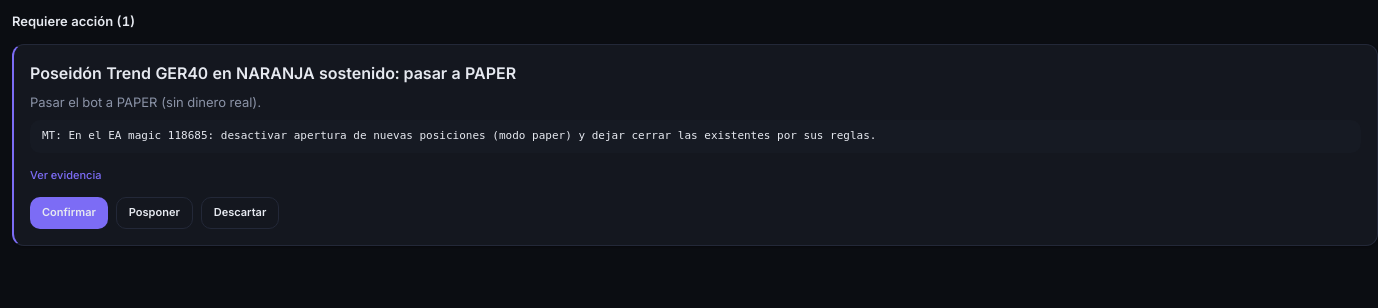
Scenario: RequiresActionPanel › Ver evidencia despliega las claves del objeto evidence
Click the button "Ver evidencia" at (66, 175), box 30,166 -> 102,183
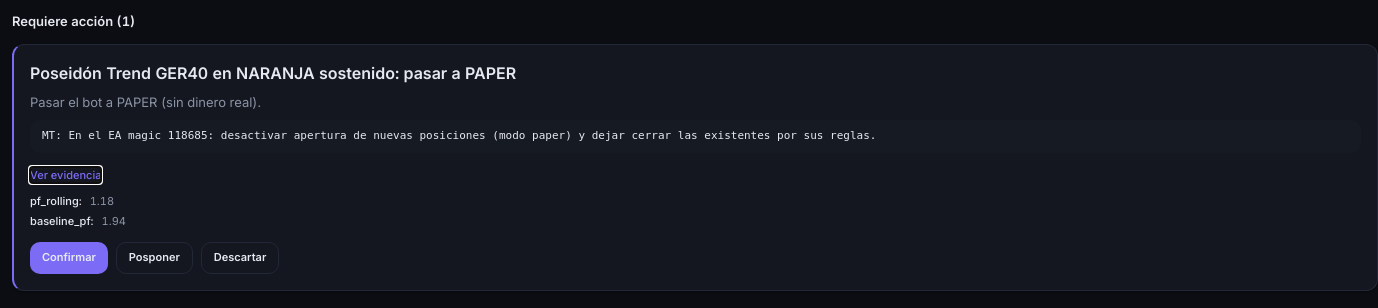
expect the text "1.18" is shown: met, box 90,192 -> 114,209
expect the text "1.94" is shown: met, box 102,213 -> 126,230
